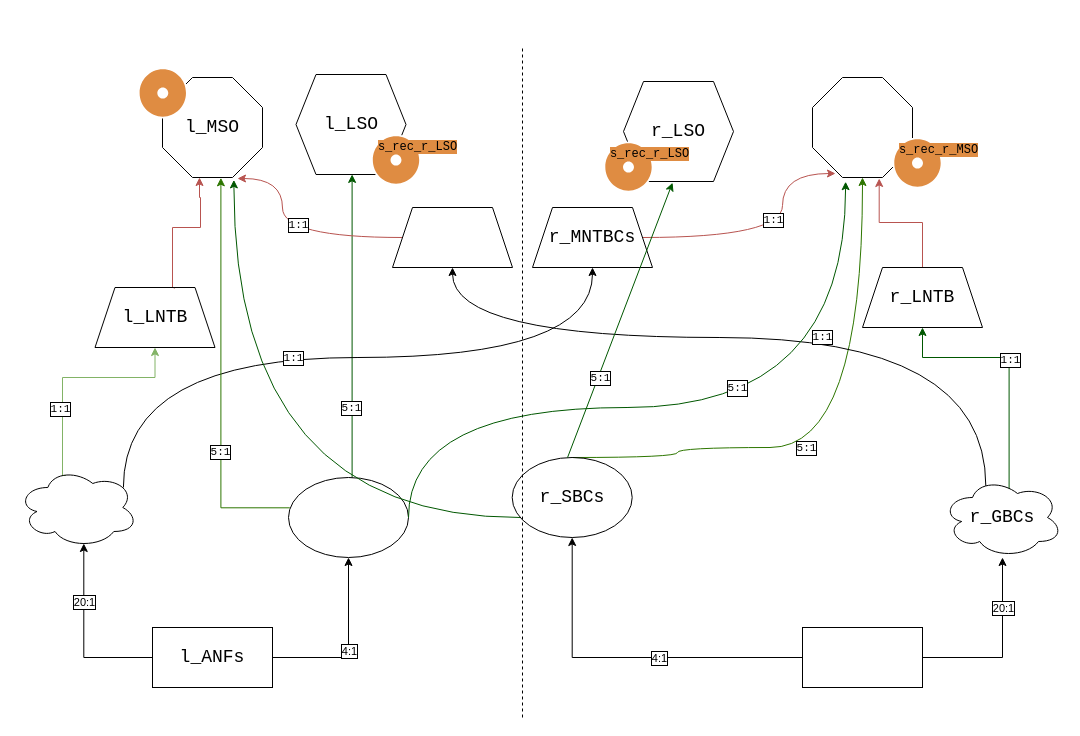
This 1080x736 diagram has some shape labels left out. Here are the shapes that lost their labels. From the top down, the centre of each, then its label:
point (162, 92): s_rec_l_MSO
point (862, 127): r_MSO
point (452, 237): l_MNTBCs
point (77, 507): l_GBCs
point (348, 517): l_SBCs
point (862, 657): r_ANFs
